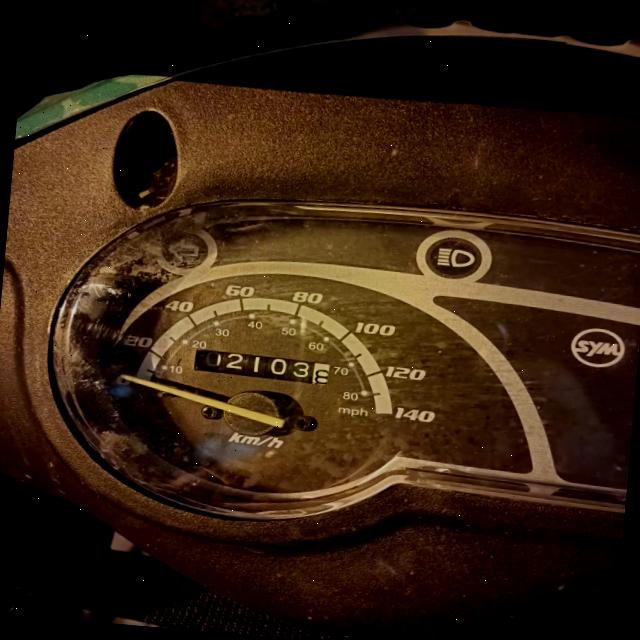odometer: (192, 346, 332, 384)
